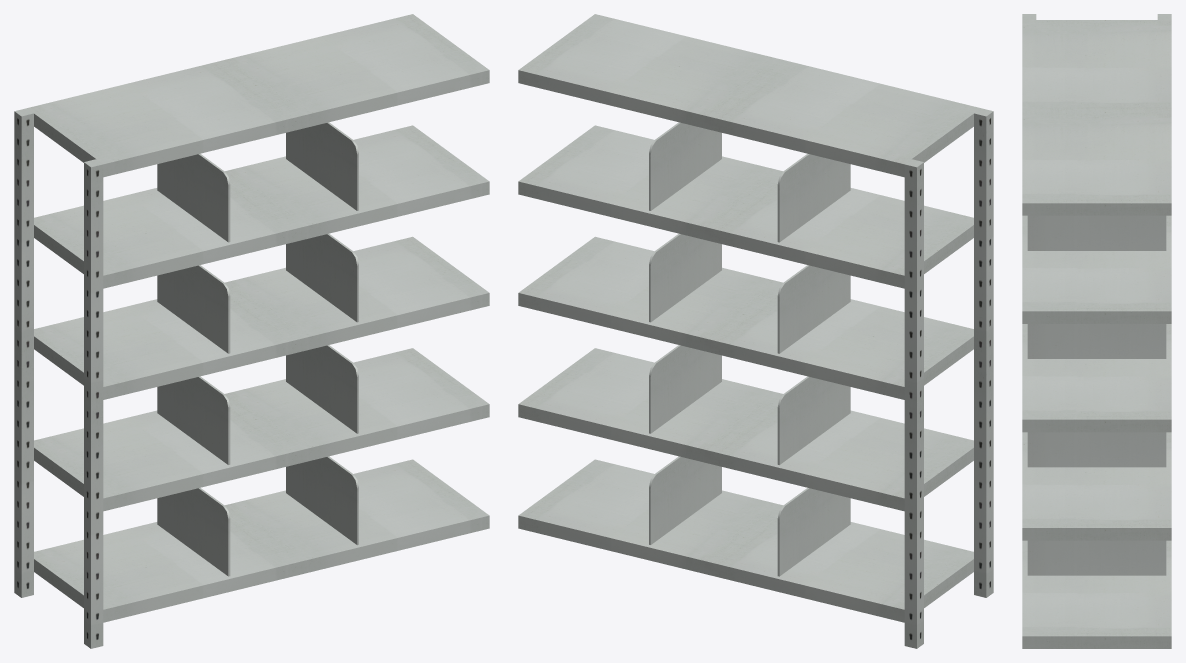
Rendered from WarehouseDTShelf.fbx.
3 renders of one model, left to right at view 1: azimuth 30°, elevation 25°; view 2: azimuth 150°, elevation 25°; view 3: azimuth 270°, elevation 25°, orthographic. The views are drawn at different scales.
Visible parts, largest first — view 1: WarehouseDTShelf, WarehouseDTShelfBar; view 2: WarehouseDTShelf, WarehouseDTShelfBar; view 3: WarehouseDTShelf.
Boxes of the visible parts, box(x1,y1,x2,y2) form: WarehouseDTShelf: box(27, 14, 489, 622); WarehouseDTShelfBar: box(14, 108, 103, 648); WarehouseDTShelf: box(518, 14, 980, 622); WarehouseDTShelfBar: box(904, 108, 993, 648); WarehouseDTShelf: box(1022, 20, 1171, 648).
Bounding box in the file's own units: 180 × 208 × 60.03.
1 material, 1 textured.
